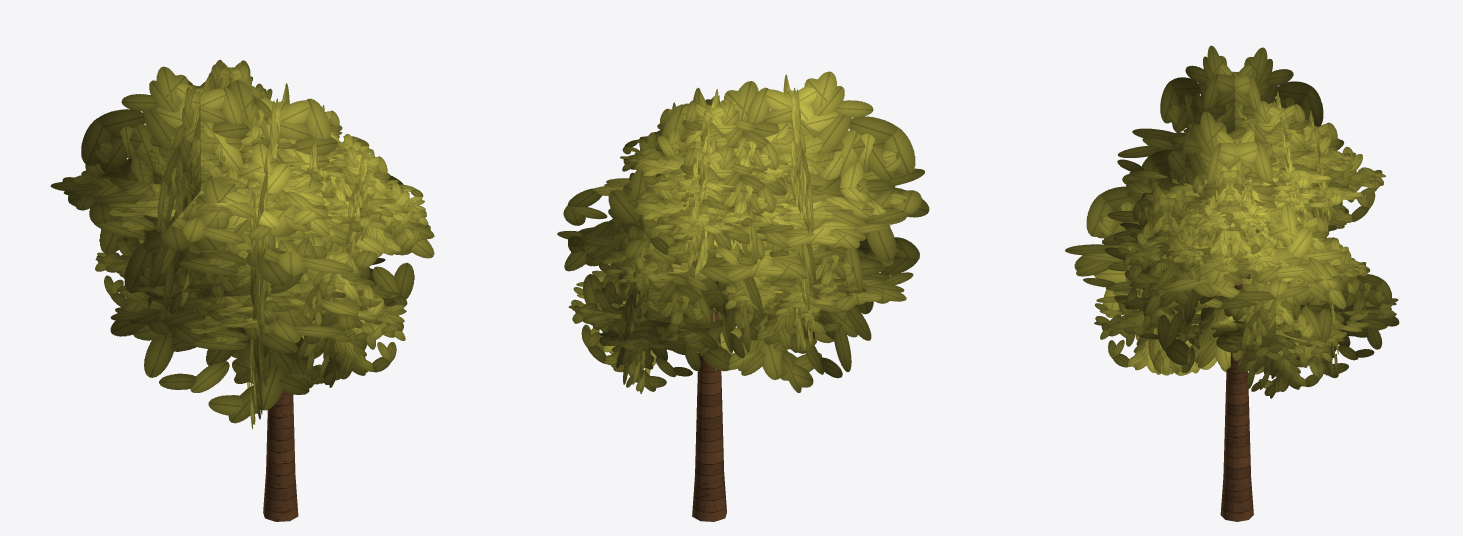
File: flora_aspen.glb
The picture shows the model from 3 angles, left to right: view 1: azimuth 30°, elevation 25°; view 2: azimuth 150°, elevation 25°; view 3: azimuth 270°, elevation 25°; orthographic projection. The views are drawn at different scales.
Visible parts, largest first — view 1: CrownFar, Crown, Trunk; view 2: CrownFar, Crown, Trunk; view 3: Crown, CrownFar, Trunk.
Boxes of the visible parts, x1,y1,x2,y2 form: CrownFar: (50, 66, 434, 429); Crown: (95, 60, 428, 387); Trunk: (263, 391, 298, 521); CrownFar: (557, 71, 929, 392); Crown: (568, 89, 866, 393); Trunk: (692, 308, 726, 521); Crown: (1094, 90, 1399, 398); CrownFar: (1065, 45, 1349, 375); Trunk: (1220, 284, 1253, 521).
Size of the model in its own units: 6.98 by 6.71 by 6.21.
2 materials, 2 textured.
